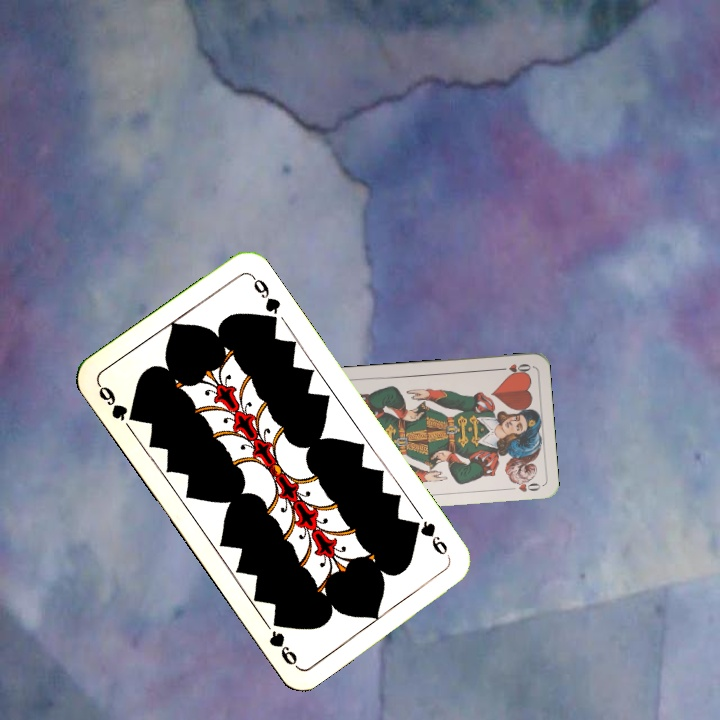G9: (407, 516, 453, 562), (94, 380, 141, 425)
HO: (493, 360, 534, 377)
